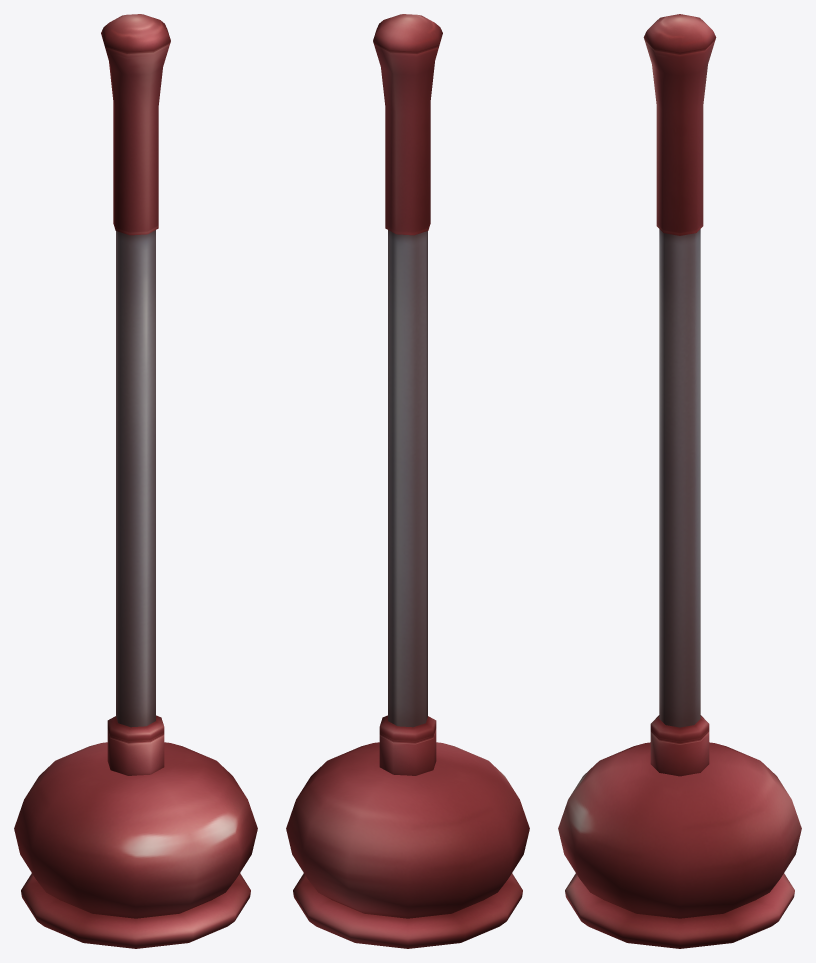
File: WuZhengDiaoChaKe_01_pichuaizi_01_UV2.FBX
The picture shows the model from 3 angles, left to right: view 1: azimuth 30°, elevation 25°; view 2: azimuth 150°, elevation 25°; view 3: azimuth 270°, elevation 25°; orthographic projection.
Parts seen in each view (by area): view 1: WuZhengDiaoChaKe_01_pichuaizi_01_UV2; view 2: WuZhengDiaoChaKe_01_pichuaizi_01_UV2; view 3: WuZhengDiaoChaKe_01_pichuaizi_01_UV2.
Boxes of the visible parts, box(x1,y1,x2,y2) form: WuZhengDiaoChaKe_01_pichuaizi_01_UV2: box(14, 14, 257, 948); WuZhengDiaoChaKe_01_pichuaizi_01_UV2: box(286, 14, 529, 948); WuZhengDiaoChaKe_01_pichuaizi_01_UV2: box(558, 14, 801, 948).
Bounding box in the file's own units: 119 × 476 × 119.
